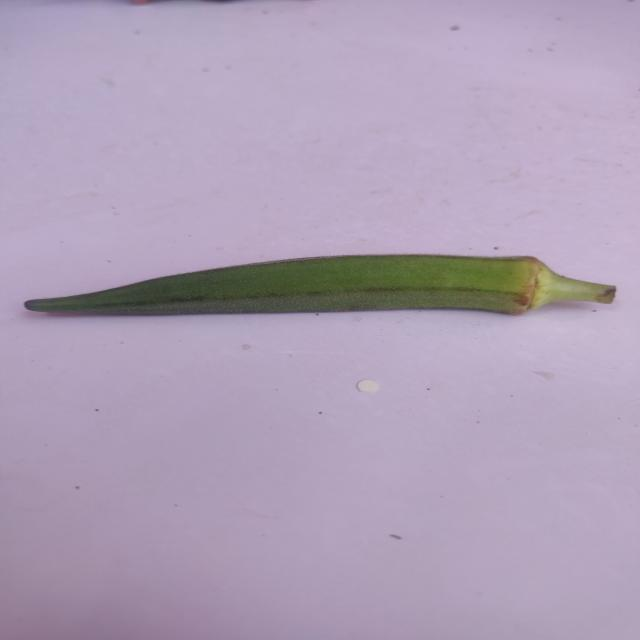Ladies Finger: (12, 245, 632, 354)
